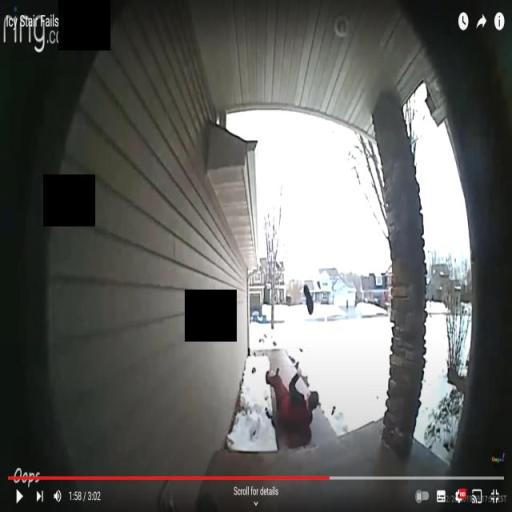Fall: (264, 359, 321, 453)
